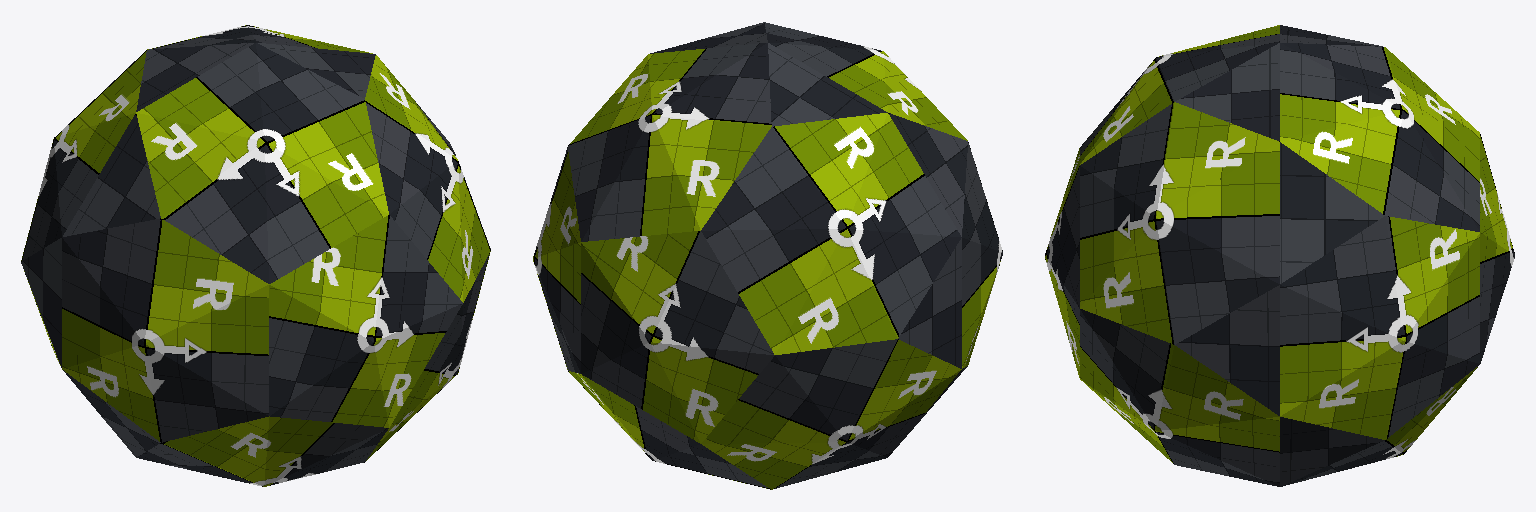
The picture shows the model from 3 angles: view 1: azimuth 30°, elevation 25°; view 2: azimuth 150°, elevation 25°; view 3: azimuth 270°, elevation 25°; orthographic projection.
Visible parts, largest first — view 1: Icosphere; view 2: Icosphere; view 3: Icosphere.
Boxes of the visible parts, box(x1,y1,x2,y2) form: Icosphere: box(21, 25, 490, 486); Icosphere: box(533, 22, 1002, 489); Icosphere: box(1045, 25, 1514, 486).
Bounding box in the file's own units: 1.9 × 2 × 2.
1 materials, 1 textured.